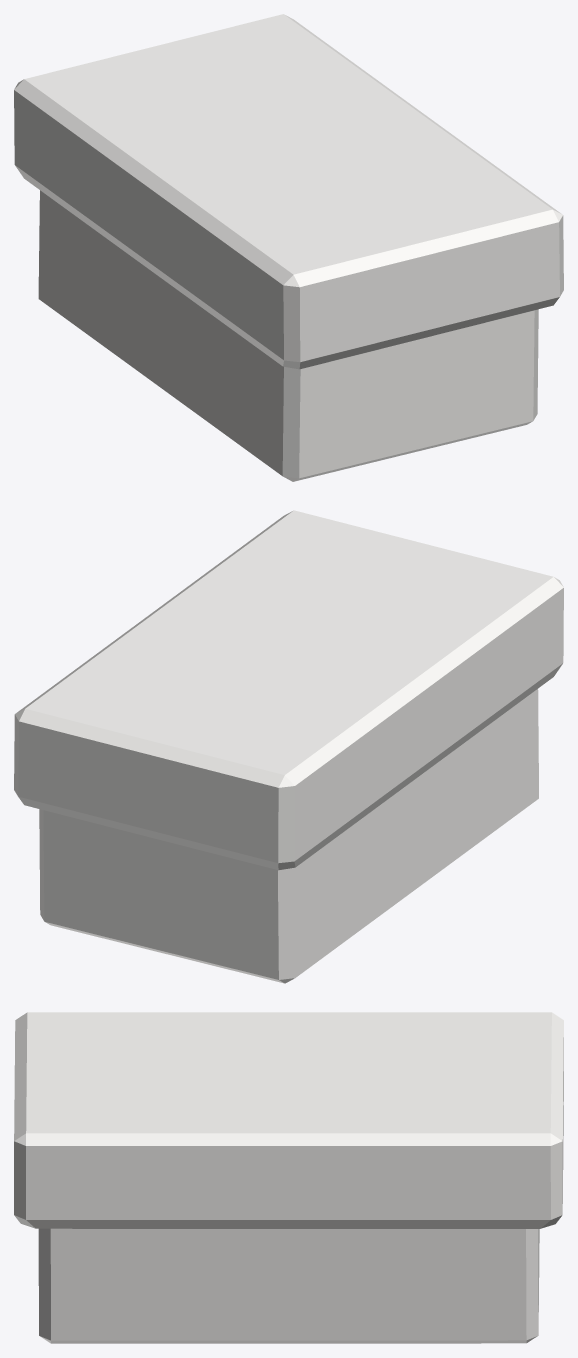
File: Living_Room_ottoman.fbx
3 renders of one model, top to bottom at view 1: azimuth 30°, elevation 25°; view 2: azimuth 150°, elevation 25°; view 3: azimuth 270°, elevation 25°, orthographic. The views are drawn at different scales.
Visible parts, largest first — view 1: Living_Room_ottoman; view 2: Living_Room_ottoman; view 3: Living_Room_ottoman.
Part boxes in pixels (bbox=[...]): Living_Room_ottoman: bbox=[14, 14, 563, 481]; Living_Room_ottoman: bbox=[14, 510, 563, 983]; Living_Room_ottoman: bbox=[14, 1012, 563, 1343].
Size of the model in its own units: 59.07 by 44.65 by 102.
